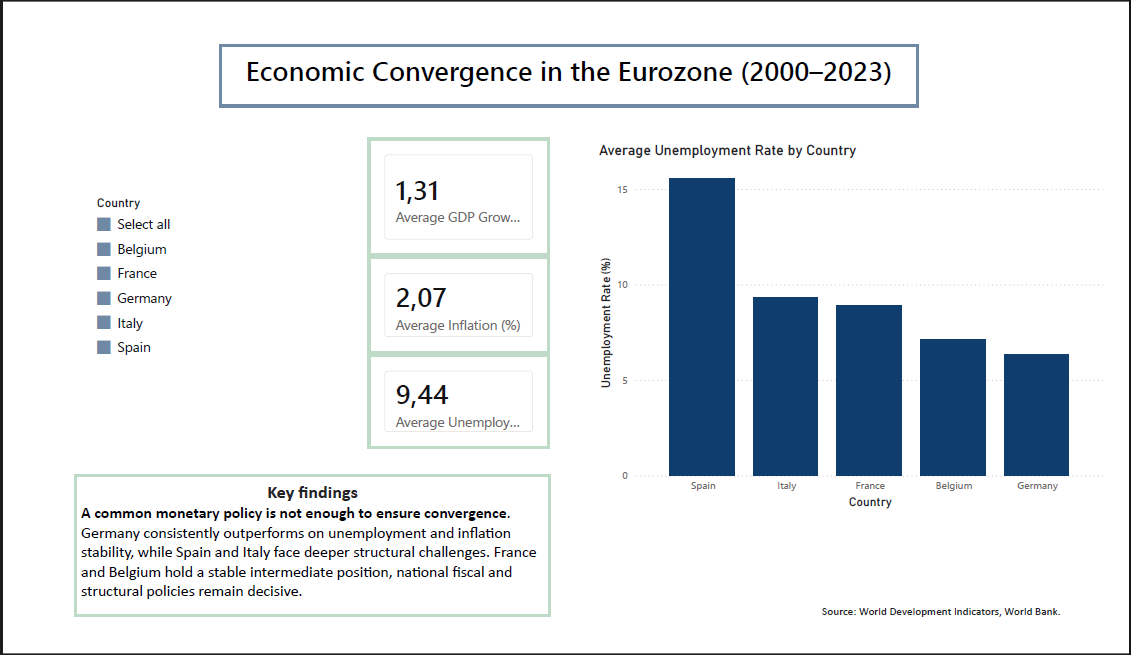

The dashboard page shown, as its layout file describes it:
{"tool":"powerbi","page":{"name":"Overview","canvas":[1280,720],"ordinal":0},"visuals":[{"type":"group","id":"g1","title":"Groupe 1","box":[406.3,136.1,215.4,366.6],"z":0},{"type":"cardVisual","fields":{"Data":["API_SL UEM TOTL ZS_DS2_en_csv_v2_33398.Avg GDP Growth"]},"box":[406.3,136.1,215.4,139.8],"z":0,"group":"g1"},{"type":"slicer","fields":{"Values":["API_SL UEM TOTL ZS_DS2_en_csv_v2_33398.Country"]},"box":[73.7,200.3,217.3,238.1],"z":1000},{"type":"cardVisual","fields":{"Data":["API_SL UEM TOTL ZS_DS2_en_csv_v2_33398.Avg Inflation"]},"box":[406.3,275.9,215.4,115.3],"z":1000,"group":"g1"},{"type":"textbox","box":[230.6,26.5,825.8,73.7],"z":2000},{"type":"cardVisual","fields":{"Data":["API_SL UEM TOTL ZS_DS2_en_csv_v2_33398.Avg Unemployment"]},"box":[406.3,391.2,215.4,111.5],"z":2000,"group":"g1"},{"type":"textbox","box":[60.5,532.9,561.3,168.2],"z":3000},{"type":"textbox","box":[937.3,680.3,342,39.7],"z":4000},{"type":"columnChart","title":"Average Unemployment Rate by Country","fields":{"Category":["API_SL UEM TOTL ZS_DS2_en_csv_v2_33398.Country"],"Y":["API_SL UEM TOTL ZS_DS2_en_csv_v2_33398.Avg Unemployment"]},"box":[673.8,140.8,605.7,437.6],"z":5000}]}

Visuals, with their boxes in screenshot pixels (x1, y1, x2, y2), scaled from the page's 1280x720 canvas onto the 1131x655 screenshot:
"Groupe 1" group: locate(359, 124, 549, 457)
cardVisual - API_SL UEM TOTL ZS_DS2_en_csv_v2_33398.Avg GDP Growth: locate(359, 124, 549, 251)
slicer - API_SL UEM TOTL ZS_DS2_en_csv_v2_33398.Country: locate(65, 182, 257, 399)
cardVisual - API_SL UEM TOTL ZS_DS2_en_csv_v2_33398.Avg Inflation: locate(359, 251, 549, 356)
textbox: locate(204, 24, 933, 91)
cardVisual - API_SL UEM TOTL ZS_DS2_en_csv_v2_33398.Avg Unemployment: locate(359, 356, 549, 457)
textbox: locate(53, 485, 549, 638)
textbox: locate(828, 619, 1130, 654)
"Average Unemployment Rate by Country" columnChart: locate(595, 128, 1130, 526)
